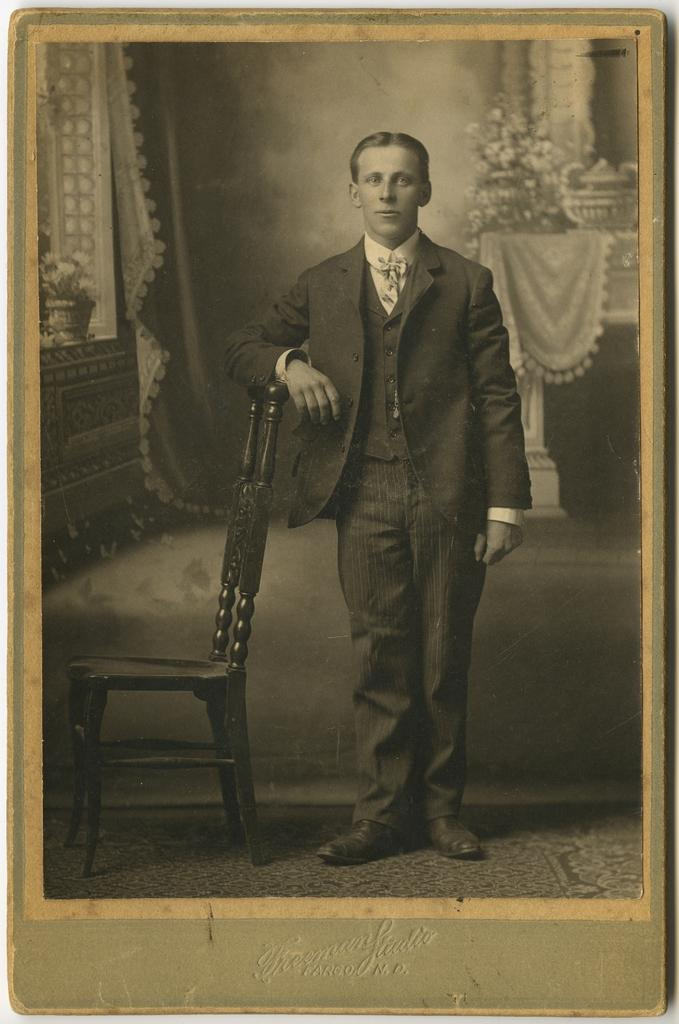Chair: (57, 373, 283, 882)
